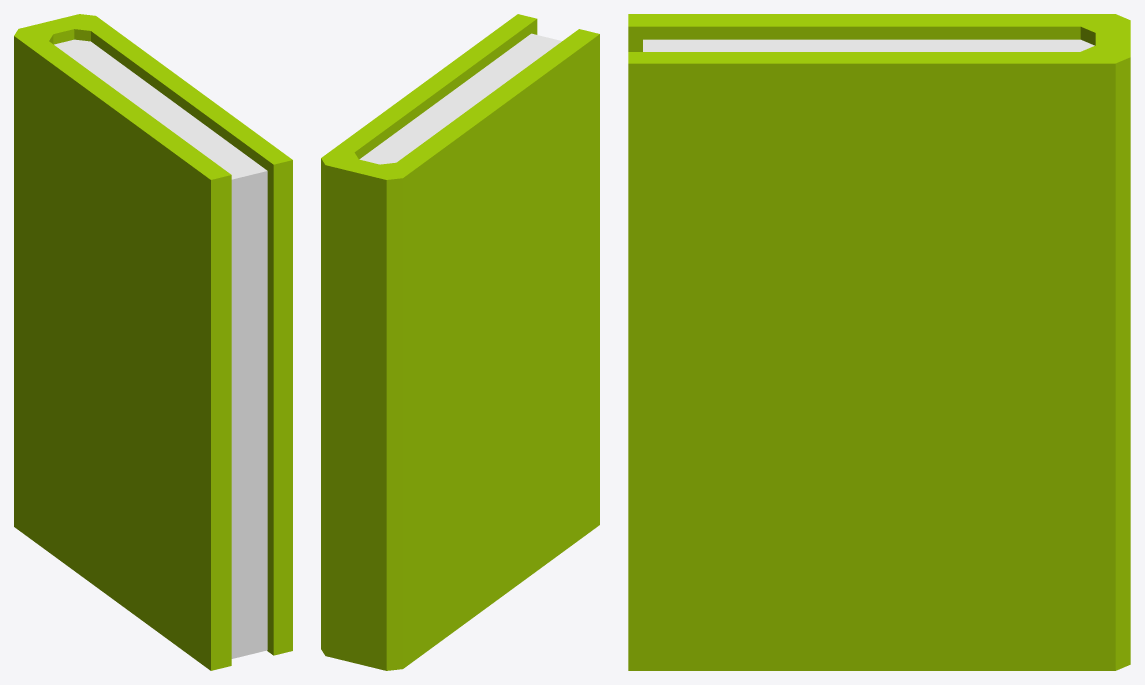
Rendered from Libro05.fbx.
3 views of the same model, side by side, from view 1: azimuth 30°, elevation 25°; view 2: azimuth 150°, elevation 25°; view 3: azimuth 270°, elevation 25° (orthographic). The views are drawn at different scales.
Visible parts, largest first — view 1: Libro05; view 2: Libro05; view 3: Libro05.
Boxes of the visible parts, x1,y1,x2,y2 form: Libro05: (14, 14, 292, 670); Libro05: (321, 14, 599, 670); Libro05: (628, 14, 1130, 670).
Size of the model in its own units: 0.0328 by 0.1876 by 0.1405.
